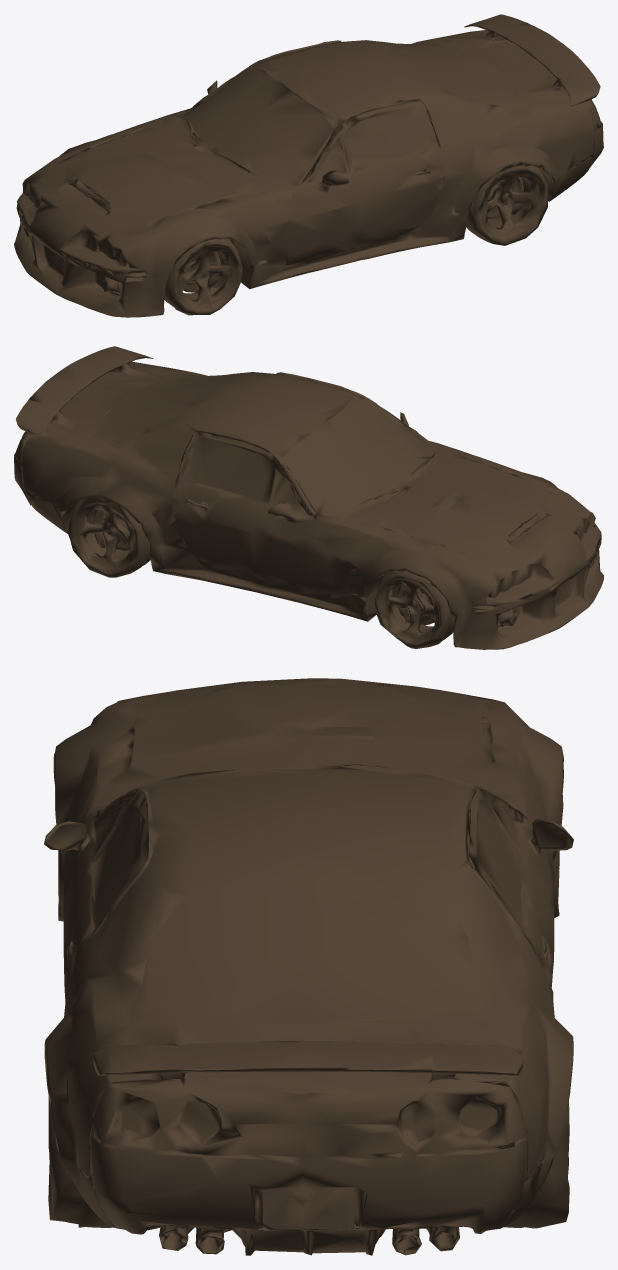
File: car_sports_light_q0.glb
3 views of the same model, one above another, from view 1: azimuth 30°, elevation 25°; view 2: azimuth 150°, elevation 25°; view 3: azimuth 270°, elevation 25° (orthographic). The views are drawn at different scales.
Bounding box in the file's own units: 4.37 × 1.25 × 1.92.
1 material, 1 textured.
